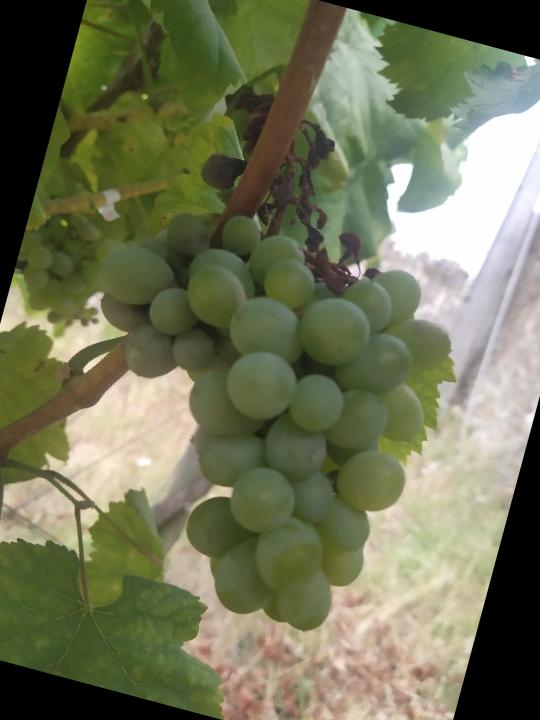grape: (19, 57, 508, 652)
